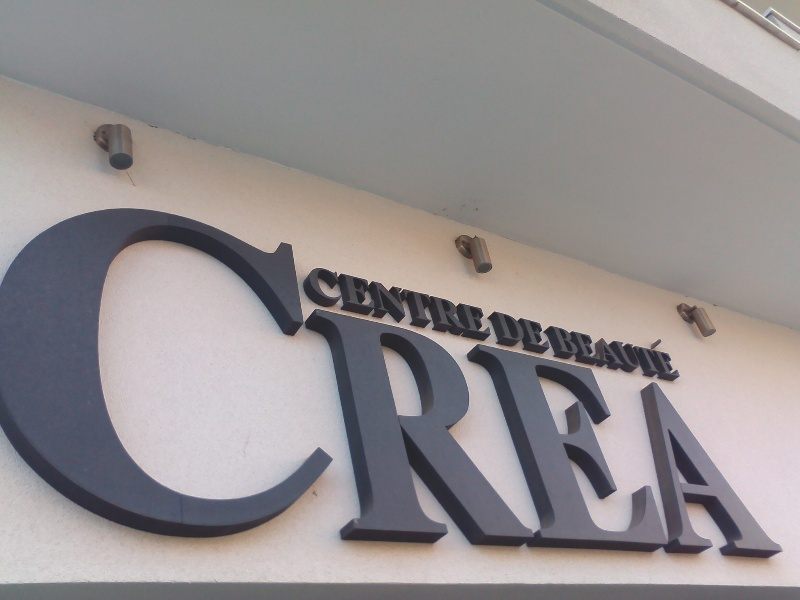text: (1, 172, 16, 567), (17, 172, 32, 567), (33, 172, 48, 567), (49, 172, 64, 567), (65, 172, 80, 567), (81, 172, 96, 567), (97, 172, 112, 567), (113, 172, 128, 567), (129, 172, 144, 567), (145, 172, 160, 567), (161, 172, 176, 567), (177, 172, 192, 567), (193, 172, 208, 567), (209, 172, 224, 567), (225, 172, 240, 567), (241, 172, 256, 567), (257, 172, 272, 567), (273, 172, 288, 567), (289, 172, 304, 567), (305, 172, 320, 567), (321, 172, 336, 567), (337, 172, 352, 567), (353, 172, 368, 567), (369, 172, 384, 567), (385, 172, 400, 567), (401, 172, 416, 567), (417, 172, 432, 567), (433, 172, 448, 567), (449, 172, 464, 567), (465, 172, 480, 567), (481, 172, 496, 567), (497, 172, 512, 567), (513, 172, 528, 567), (529, 172, 544, 567), (545, 172, 560, 567), (561, 172, 576, 567), (577, 172, 592, 567), (593, 172, 608, 567), (609, 172, 624, 567), (625, 172, 640, 567), (641, 172, 656, 567), (657, 172, 672, 567), (673, 172, 688, 567), (689, 172, 704, 567), (705, 172, 720, 567), (721, 172, 736, 567), (737, 172, 752, 567), (753, 172, 768, 567), (769, 172, 784, 567), (785, 172, 794, 567), (305, 263, 320, 342), (321, 263, 336, 342), (337, 263, 352, 342), (353, 263, 368, 342), (369, 263, 384, 342), (385, 263, 400, 342), (401, 263, 416, 342), (417, 263, 432, 342), (433, 263, 448, 342), (449, 263, 464, 342), (465, 263, 480, 342), (545, 311, 560, 385), (561, 311, 576, 385), (577, 311, 592, 385), (593, 311, 608, 385), (609, 311, 624, 385), (625, 311, 640, 385), (641, 311, 656, 385), (657, 311, 672, 385), (481, 263, 494, 342), (673, 311, 686, 385), (497, 308, 512, 358), (513, 308, 528, 358), (529, 308, 544, 358), (486, 308, 496, 358), (545, 308, 554, 358), (542, 311, 544, 385), (303, 263, 304, 342)
